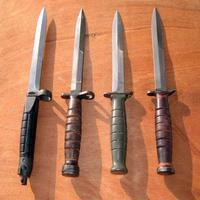knife: (143, 6, 183, 176), (15, 5, 52, 187), (58, 8, 94, 181), (102, 10, 134, 179)
